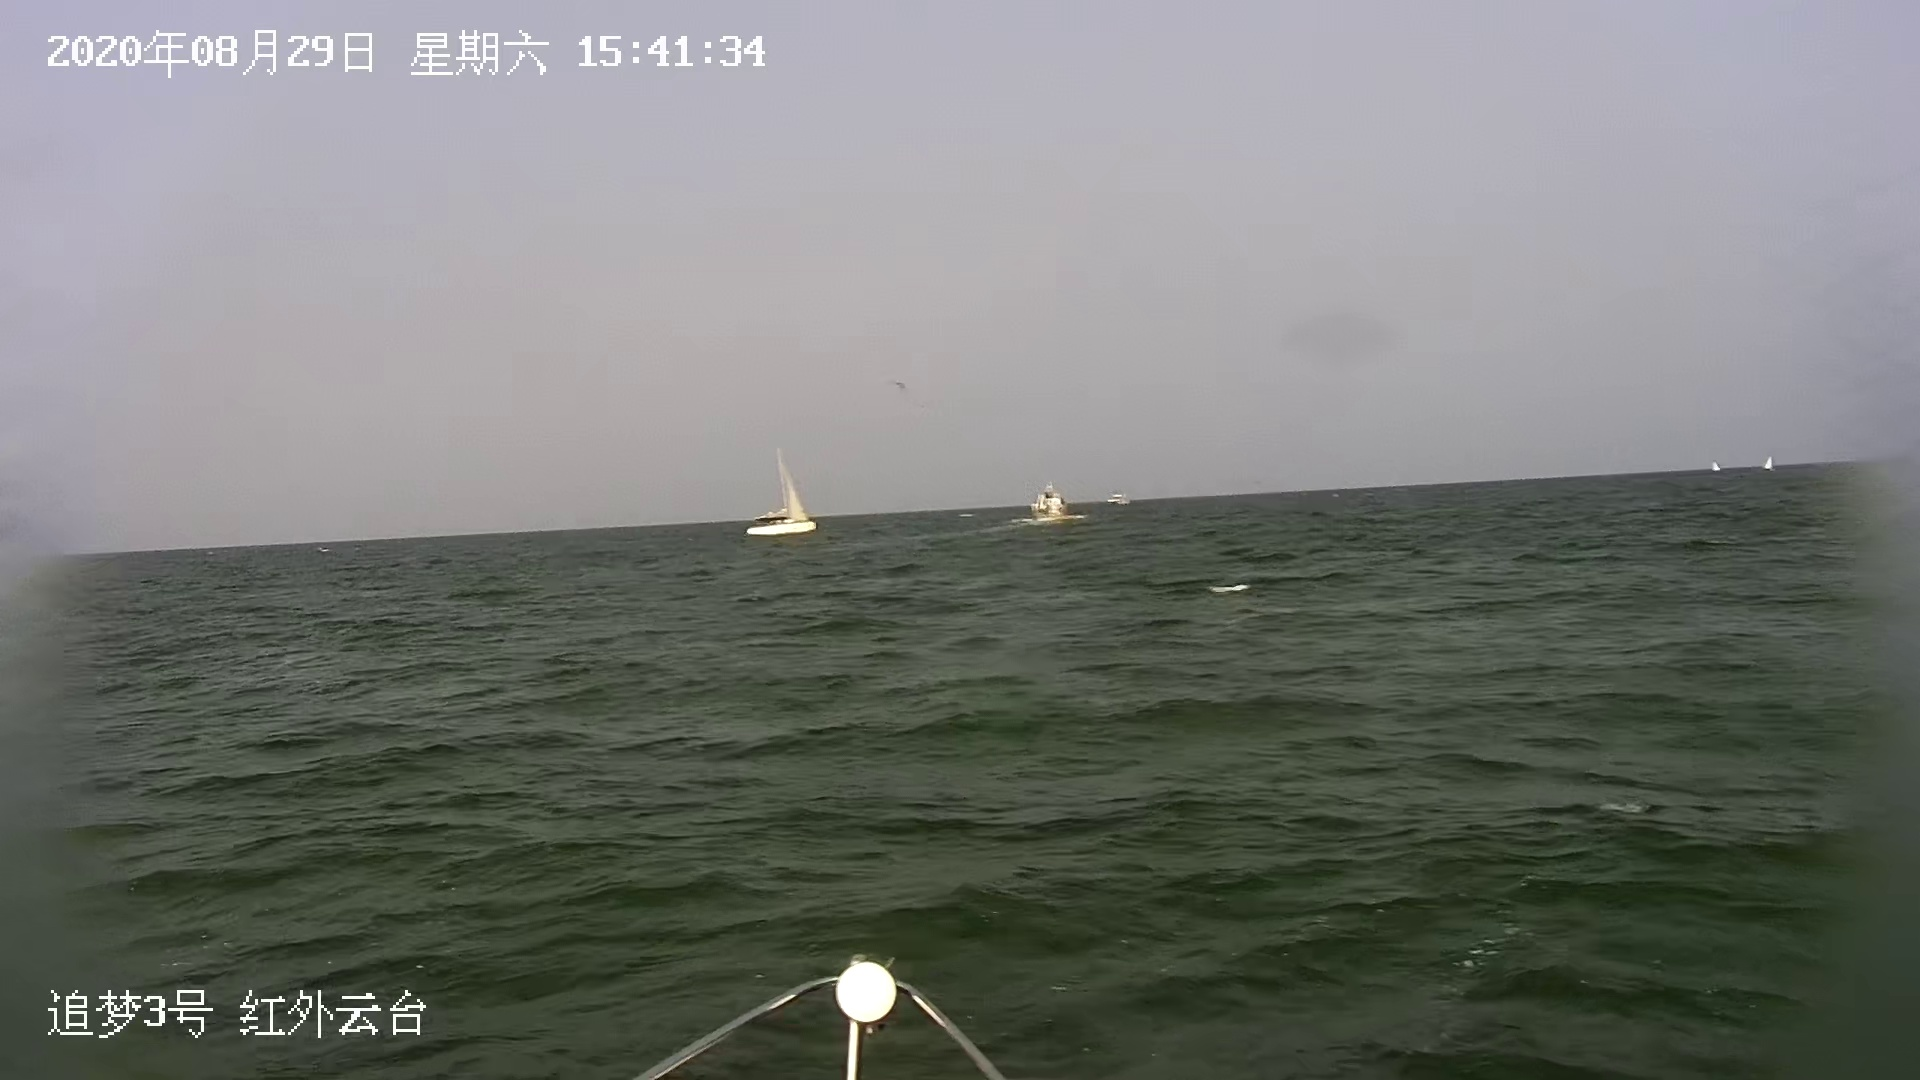barrier: (742, 448, 819, 539), (1029, 481, 1077, 525), (1108, 491, 1135, 506), (1762, 455, 1778, 473), (1712, 458, 1724, 472)
